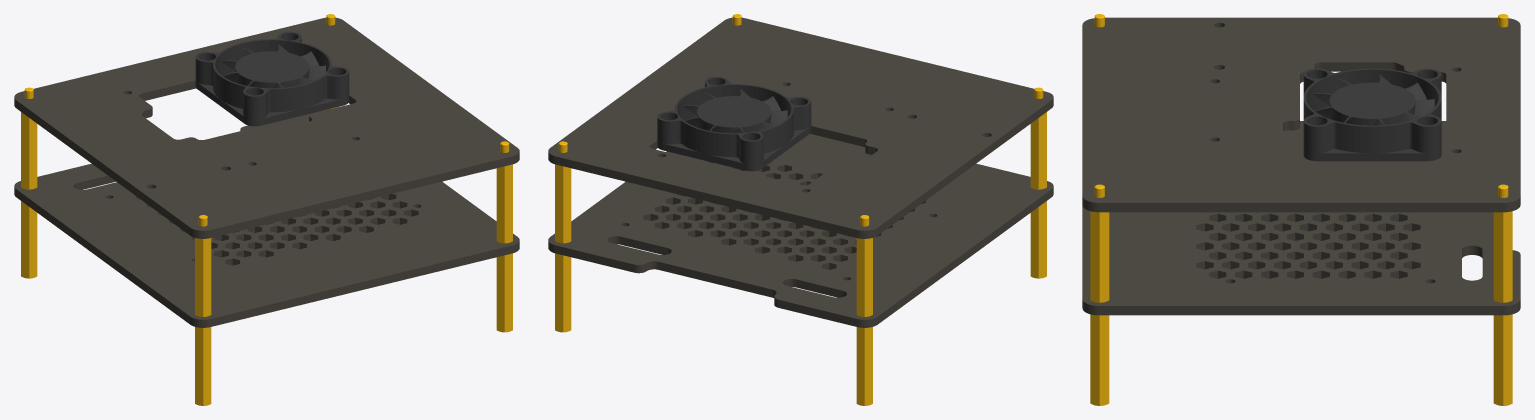
Rendered from module_jetson.dae.
The picture shows the model from 3 angles, left to right: view 1: azimuth 30°, elevation 25°; view 2: azimuth 150°, elevation 25°; view 3: azimuth 270°, elevation 25°; orthographic projection. The views are drawn at different scales.
Visible parts, largest first — view 1: 5f22dedc360a04142d1efec8 (×10); view 2: 5f22dedc360a04142d1efec8 (×10); view 3: 5f22dedc360a04142d1efec8 (×8).
Part boxes in pixels (left/top/right/bottom): 5f22dedc360a04142d1efec8 (×10): left=14, top=17, right=519, bottom=405; 5f22dedc360a04142d1efec8 (×10): left=548, top=17, right=1053, bottom=405; 5f22dedc360a04142d1efec8 (×8): left=1082, top=17, right=1520, bottom=405.
Bounding box in the file's own units: 0.127 × 0.127 × 0.0766.
